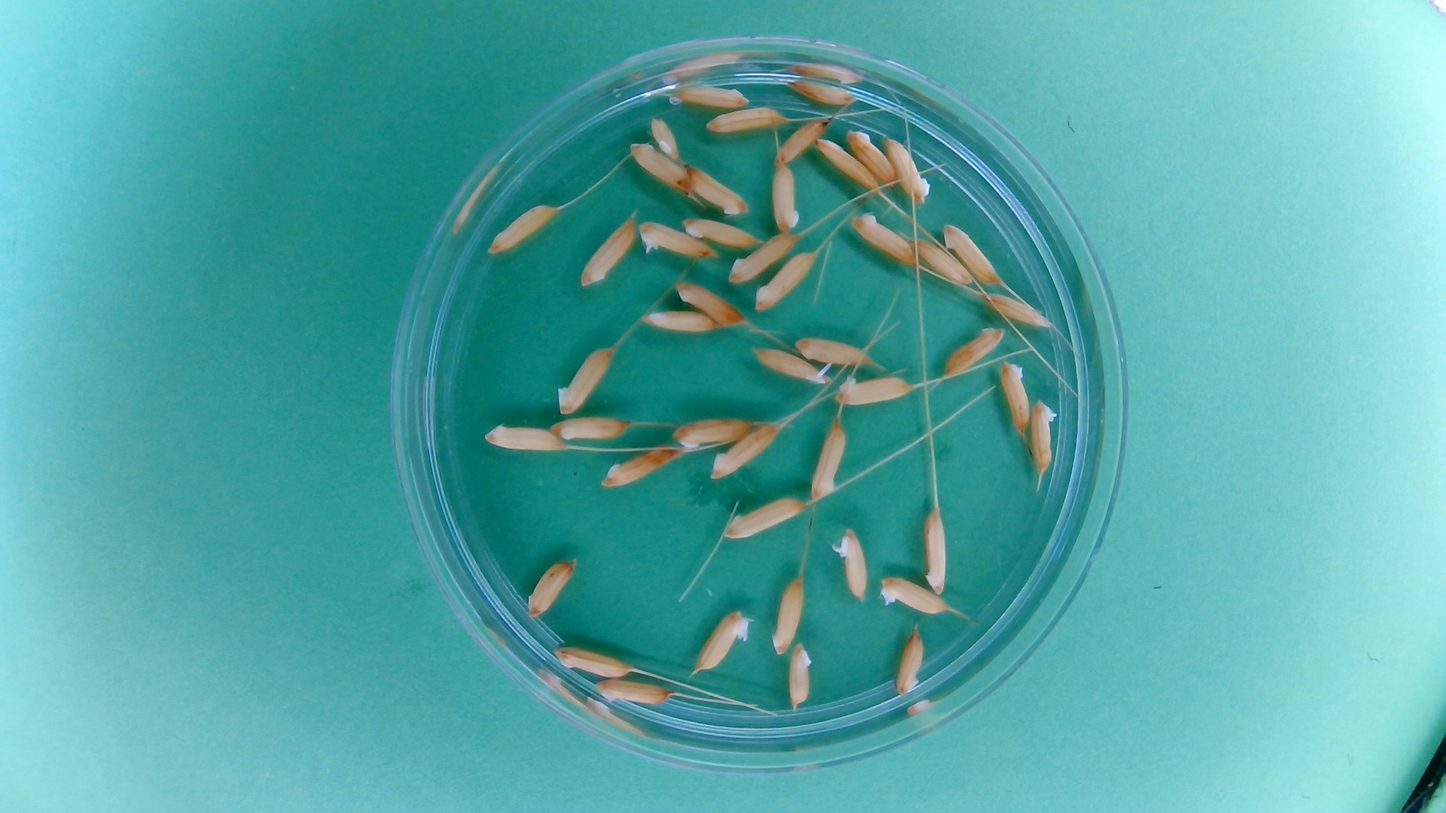no: (709, 417, 784, 481), (578, 210, 638, 288), (553, 342, 615, 417), (751, 247, 819, 312), (692, 605, 753, 676), (721, 492, 809, 541), (847, 209, 918, 268), (486, 200, 560, 256), (942, 219, 1004, 285), (727, 230, 800, 285), (599, 443, 682, 490), (941, 322, 1008, 380), (684, 161, 751, 217), (882, 131, 932, 205), (814, 134, 882, 188), (673, 279, 746, 328), (523, 554, 578, 618), (807, 418, 848, 503), (627, 140, 692, 193), (908, 235, 974, 286), (768, 574, 807, 655), (833, 370, 914, 408), (844, 126, 897, 184), (672, 414, 755, 451), (791, 332, 878, 367), (876, 573, 947, 615), (774, 113, 831, 165), (551, 643, 633, 679), (984, 288, 1052, 330), (480, 419, 566, 452), (680, 214, 761, 248), (892, 621, 927, 698), (667, 79, 751, 111), (999, 358, 1033, 437), (920, 505, 950, 593), (1027, 397, 1060, 476), (703, 105, 787, 136), (550, 413, 633, 443), (593, 677, 673, 708), (785, 75, 859, 107), (770, 160, 802, 234), (639, 306, 717, 336), (784, 638, 815, 712), (649, 113, 679, 156)
yes: (750, 344, 831, 385), (636, 218, 715, 259), (831, 526, 869, 601)
